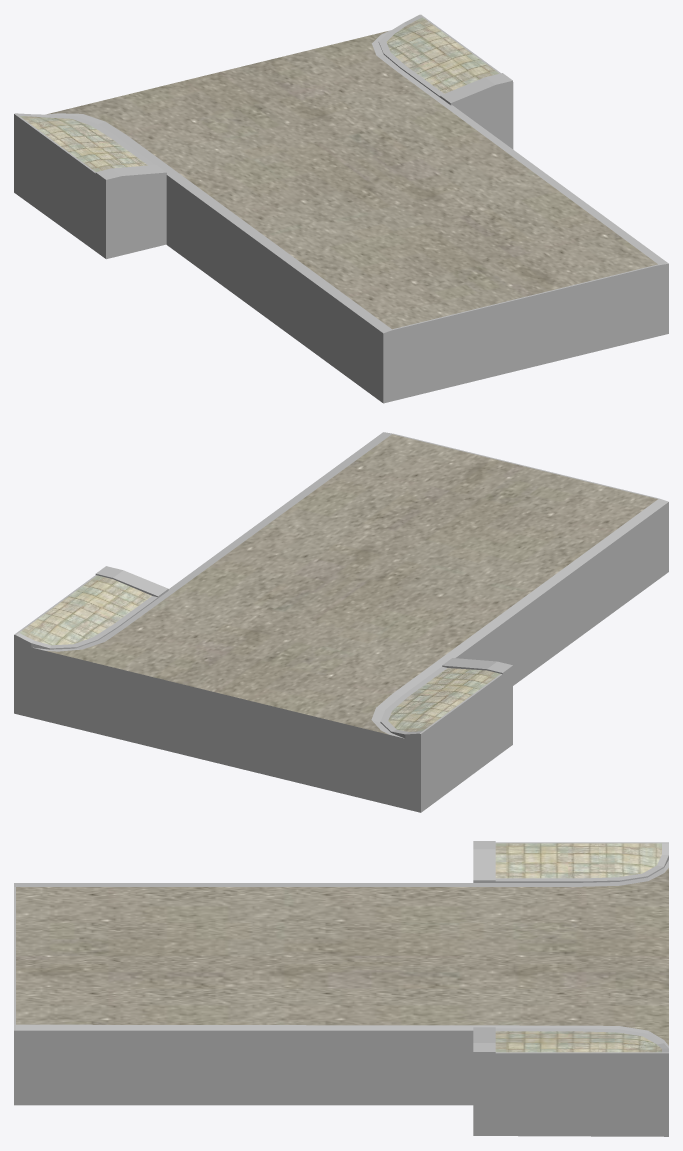
The model's file is road_02b_t02.fbx.
3 renders of one model, top to bottom at view 1: azimuth 30°, elevation 25°; view 2: azimuth 150°, elevation 25°; view 3: azimuth 270°, elevation 25°, orthographic. The views are drawn at different scales.
Visible parts, largest first — view 1: road_02b_t02; view 2: road_02b_t02; view 3: road_02b_t02.
Part boxes in pixels (left/top/right/bottom): road_02b_t02: left=14, top=14, right=668, bottom=403; road_02b_t02: left=14, top=432, right=668, bottom=812; road_02b_t02: left=14, top=841, right=668, bottom=1136.
Size of the model in its own units: 12 by 2.26 by 15.76.
